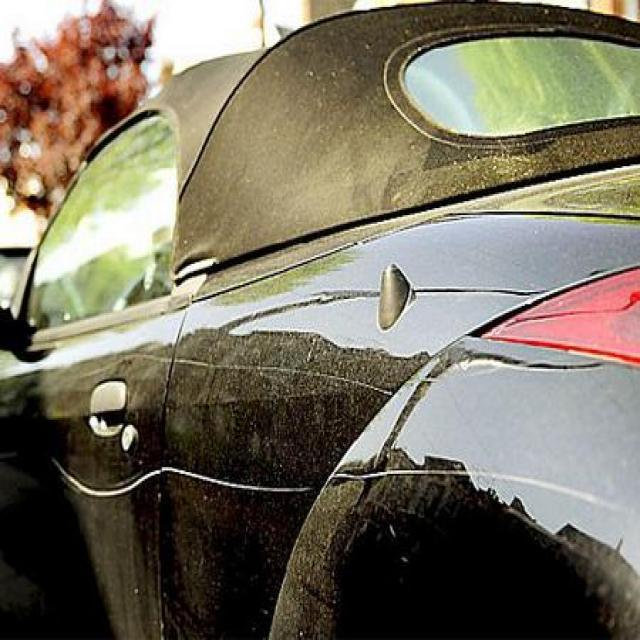scratch: (41, 450, 316, 508), (166, 340, 397, 400), (332, 464, 500, 486)
